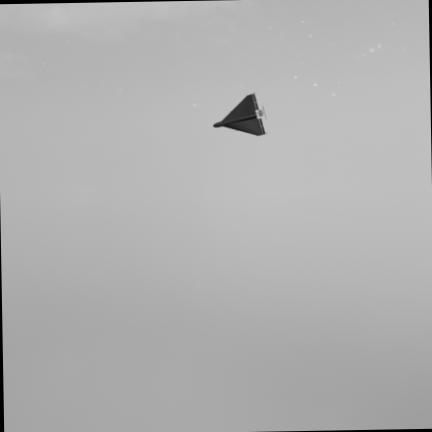Shahed: (213, 93, 265, 135)
